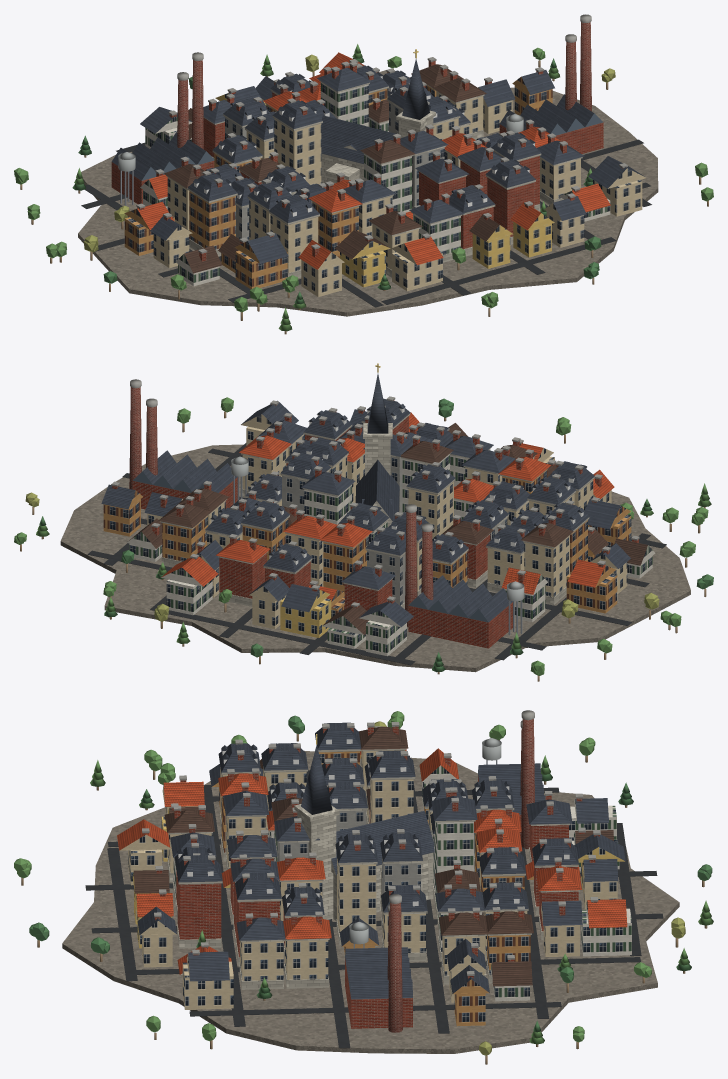
File: city_west_large.glb
3 renders of one model, top to bottom at view 1: azimuth 30°, elevation 25°; view 2: azimuth 150°, elevation 25°; view 3: azimuth 270°, elevation 25°, orthographic. The views are drawn at different scales.
Visible parts, largest first — view 1: city_west_large; view 2: city_west_large; view 3: city_west_large.
Part boxes in pixels (x1,y1,x2,y2): city_west_large: [14, 14, 713, 334]; city_west_large: [14, 363, 713, 681]; city_west_large: [14, 710, 713, 1064].
Size of the model in its own units: 4.9 by 1.26 by 4.28.
Materials: 23 (14 with a texture image).
